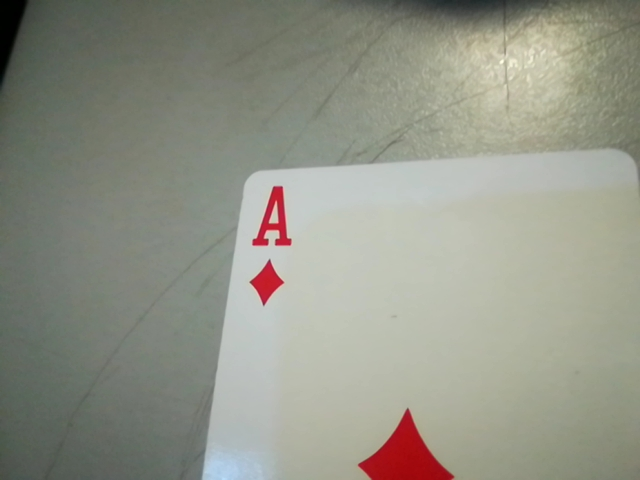fk a: (239, 180, 304, 309)
